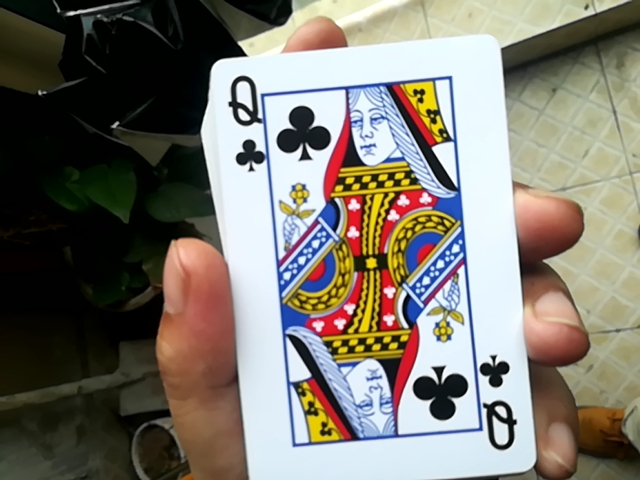mh q: (198, 41, 540, 479)
